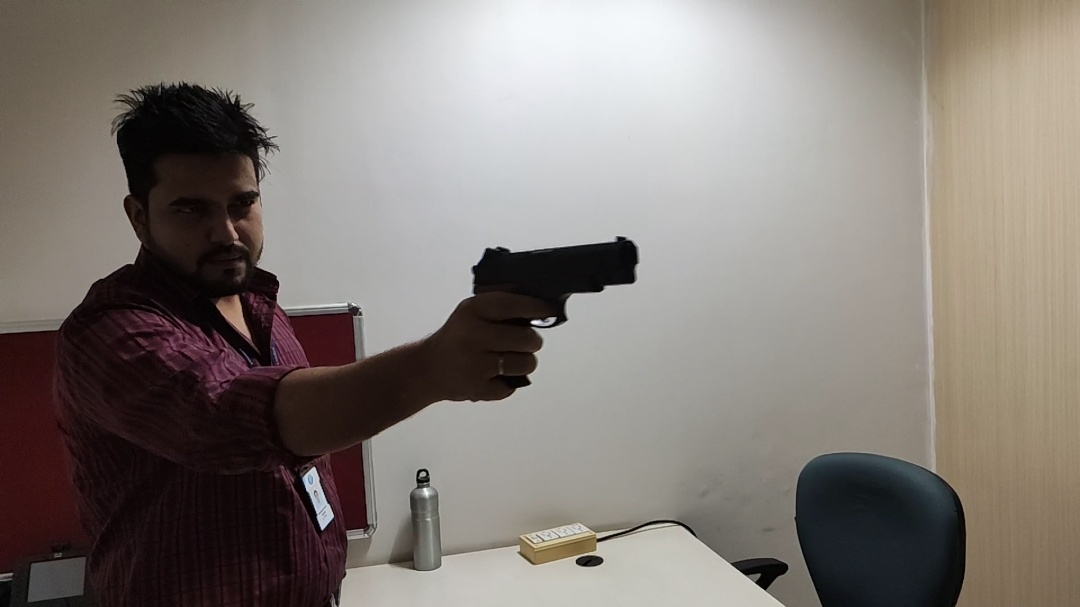gun: (469, 234, 644, 389)
